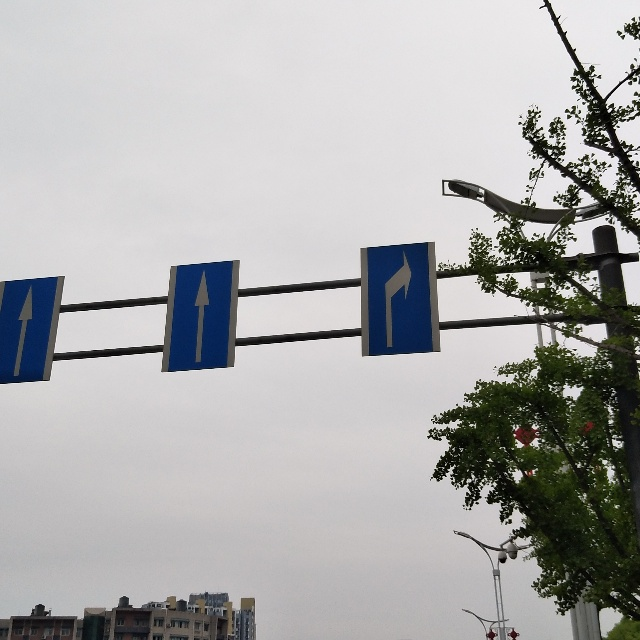right: (364, 246, 427, 350)
straight: (173, 262, 229, 372), (3, 280, 52, 380)
